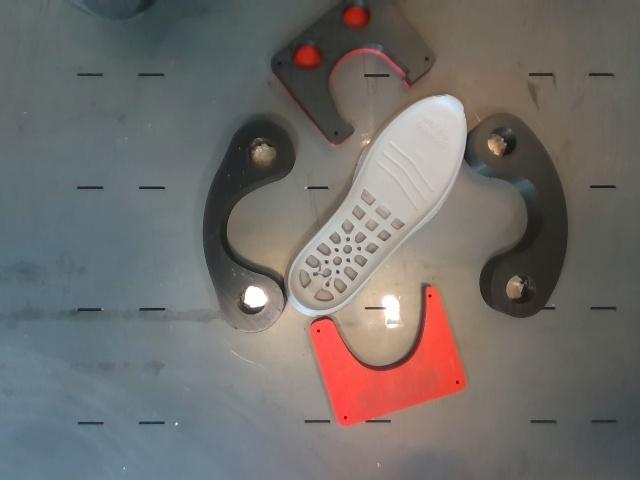shoes: (290, 97, 466, 311)
